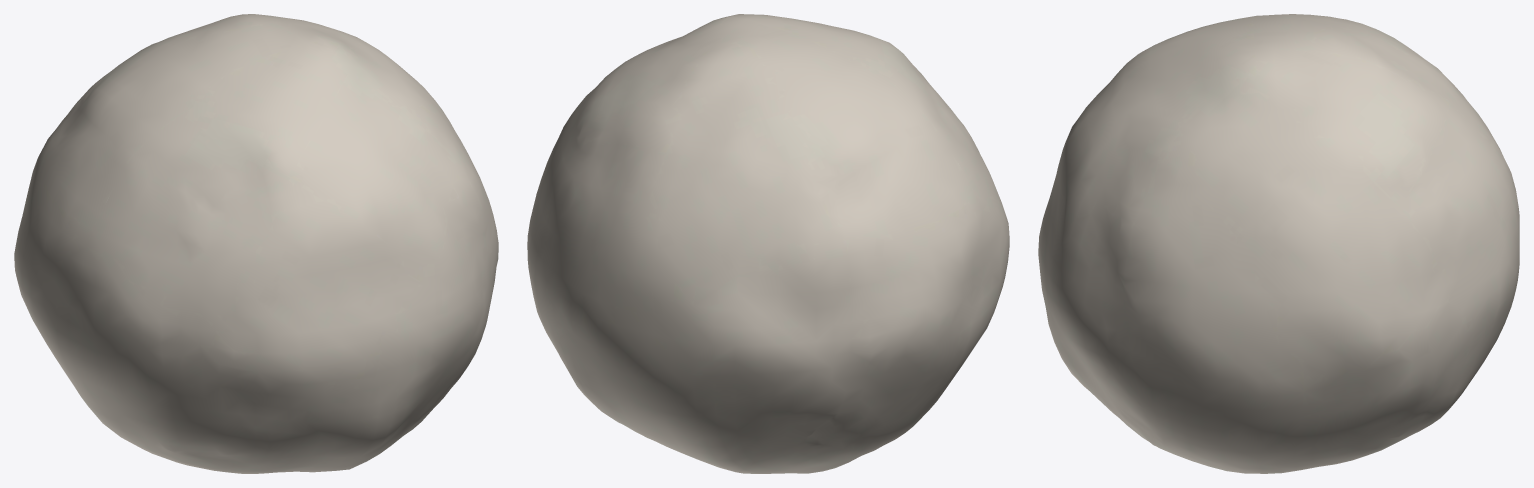
3 views of the same model, side by side, from view 1: azimuth 30°, elevation 25°; view 2: azimuth 150°, elevation 25°; view 3: azimuth 270°, elevation 25° (orthographic).
Parts seen in each view (by area): view 1: Fish Ball; view 2: Fish Ball; view 3: Fish Ball.
Part boxes in pixels (<box>): Fish Ball: <box>14,14,498,473</box>; Fish Ball: <box>527,14,1009,473</box>; Fish Ball: <box>1038,14,1519,473</box>.
Bounding box in the file's own units: 0.998 × 0.9395 × 0.998.
Materials: 1 (1 with a texture image).
